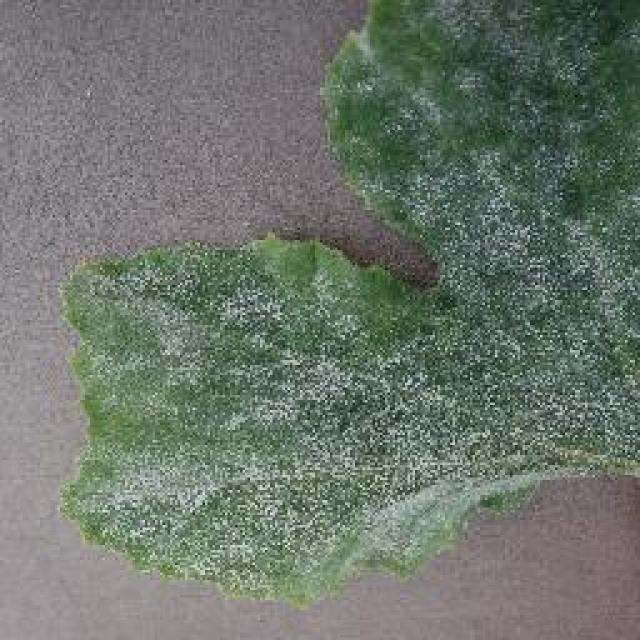Squ_Powdery_mildew: (90, 253, 516, 573), (437, 0, 622, 241)
